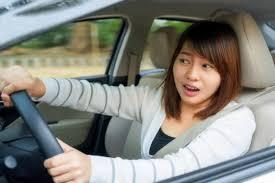Awake: (163, 17, 243, 121)
